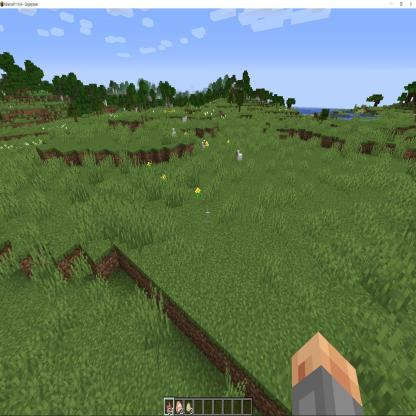minecraft-pigs: (234, 148, 245, 166), (199, 140, 208, 152), (171, 127, 177, 142)
